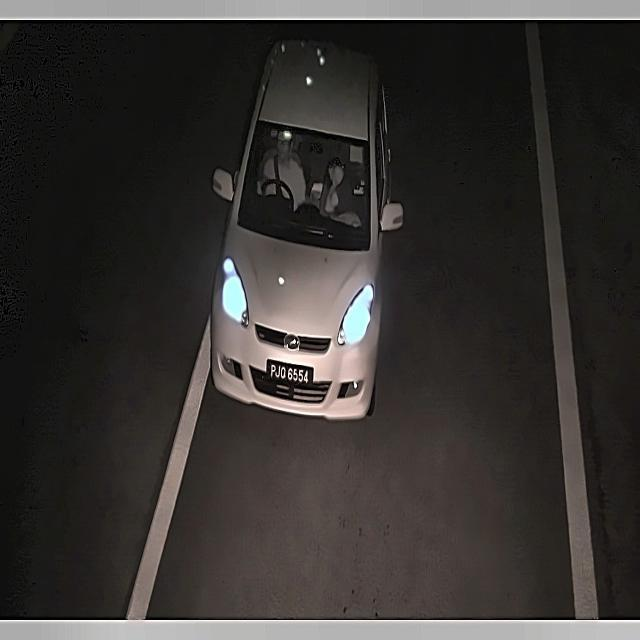car: (264, 356, 317, 394)
